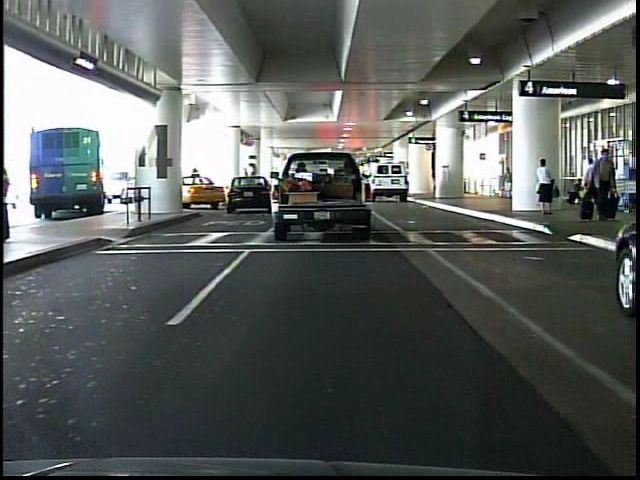person: (587, 145, 618, 225), (533, 155, 557, 217), (582, 154, 605, 212), (496, 164, 513, 206)
